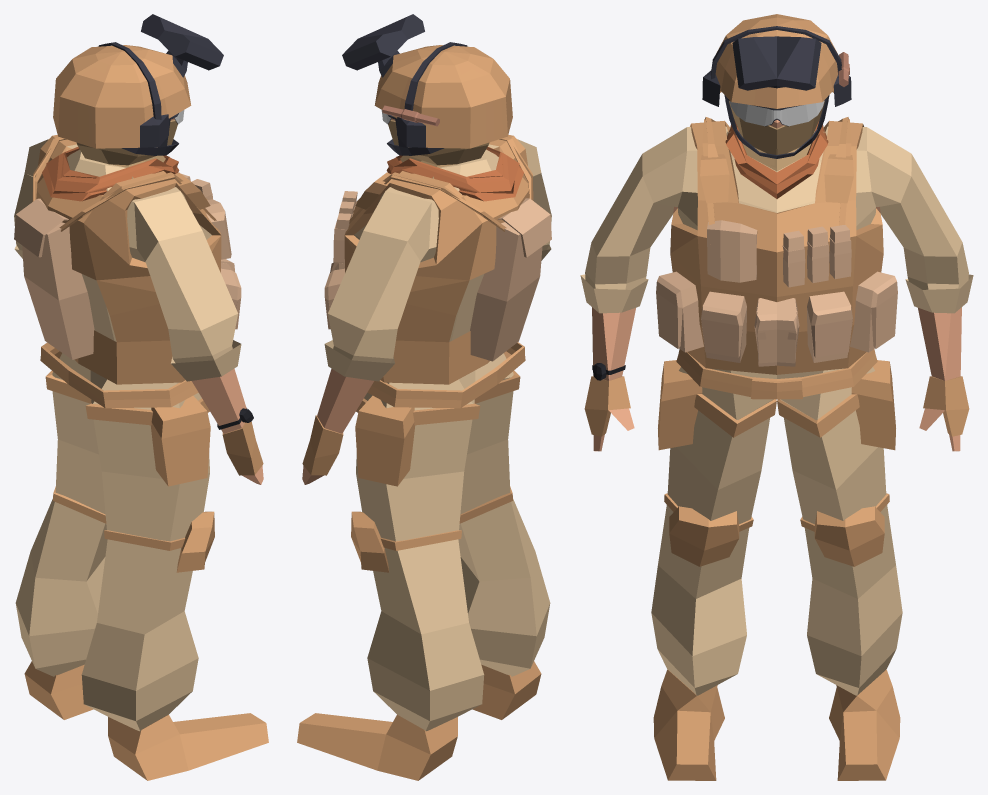
Rendered from Soldate_2.fbx.
3 renders of one model, left to right at view 1: azimuth 30°, elevation 25°; view 2: azimuth 150°, elevation 25°; view 3: azimuth 270°, elevation 25°, orthographic. The views are drawn at different scales.
Visible parts, largest first — view 1: my dude; view 2: my dude; view 3: my dude.
Part boxes in pixels (bbox=[...]): my dude: bbox=[14, 14, 268, 780]; my dude: bbox=[297, 14, 551, 780]; my dude: bbox=[580, 14, 973, 780].
Bounding box in the file's own units: 61 × 201 × 99.
